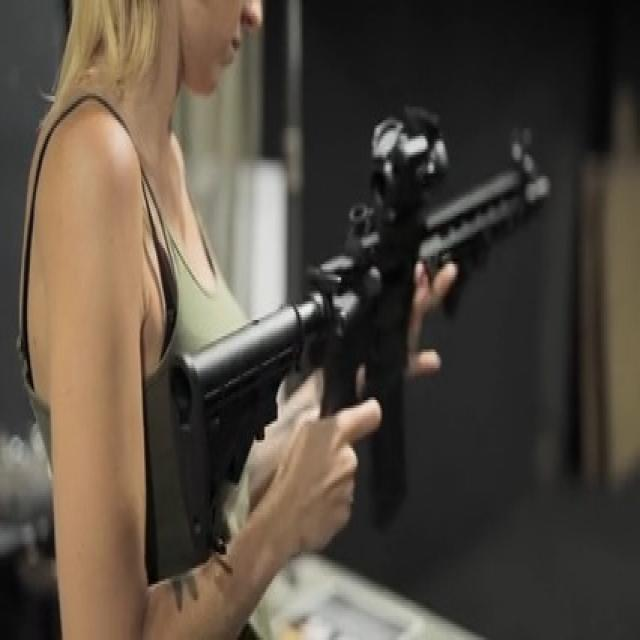Gun_Holder: (148, 88, 580, 572)
Person: (22, 0, 405, 640)
